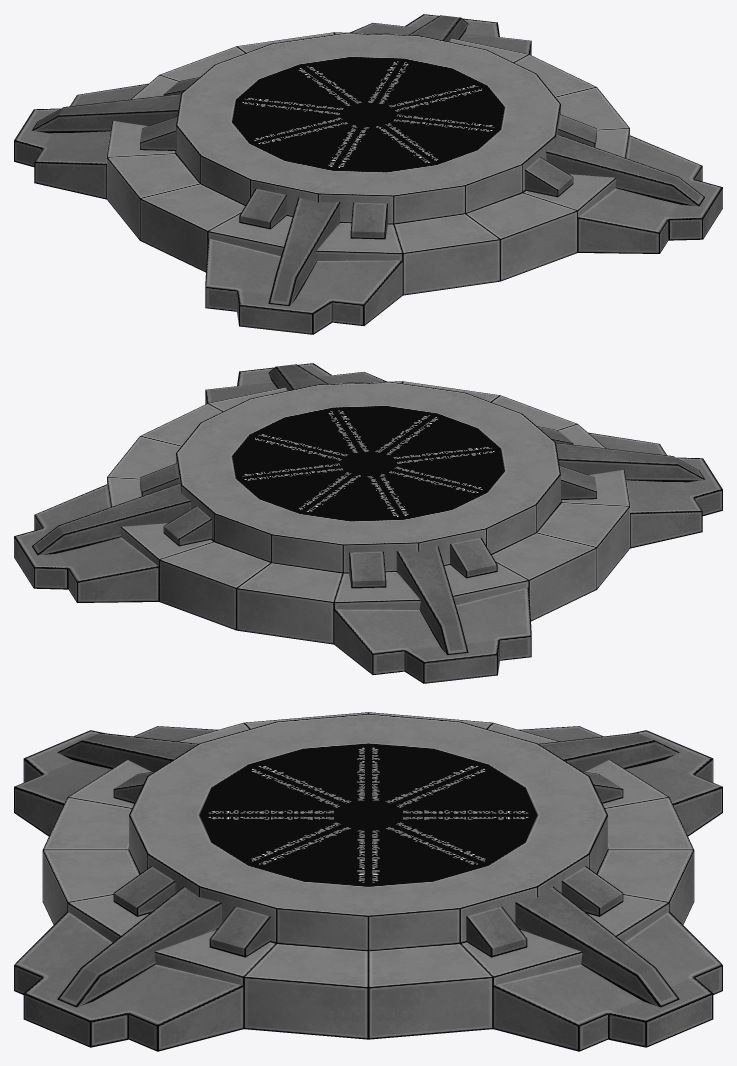
Rendered from Nuke Cannon_Base.fbx.
The picture shows the model from 3 angles, top to bottom: view 1: azimuth 30°, elevation 25°; view 2: azimuth 150°, elevation 25°; view 3: azimuth 270°, elevation 25°; orthographic projection. The views are drawn at different scales.
Visible parts, largest first — view 1: polySurface561; view 2: polySurface561; view 3: polySurface561.
Boxes of the visible parts, x1=… form: polySurface561: x1=14, y1=14, x2=722, y2=334; polySurface561: x1=14, y1=363, x2=722, y2=683; polySurface561: x1=14, y1=712, x2=722, y2=1051.
Size of the model in its own units: 170 by 23 by 170.
Materials: 1 (1 with a texture image).
